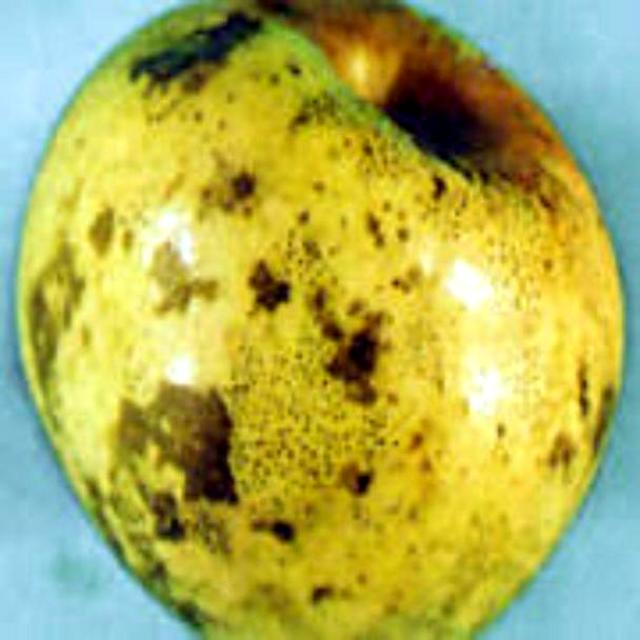BLOTCH: (16, 34, 612, 616)
